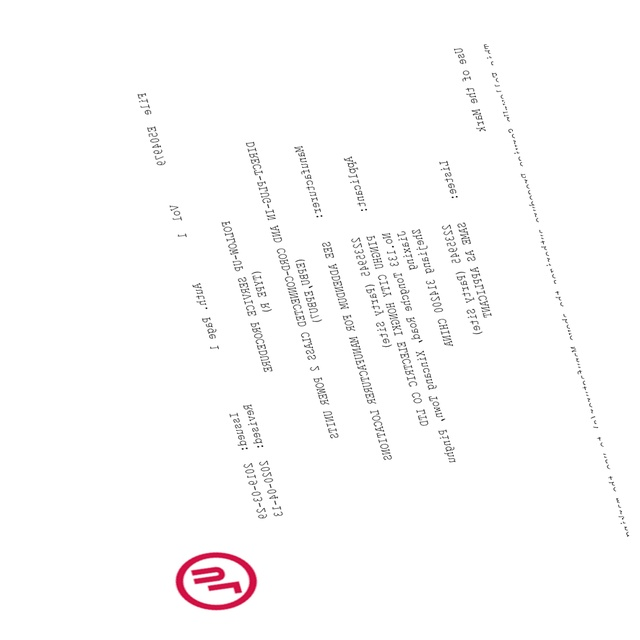ul: (177, 549, 257, 612)
